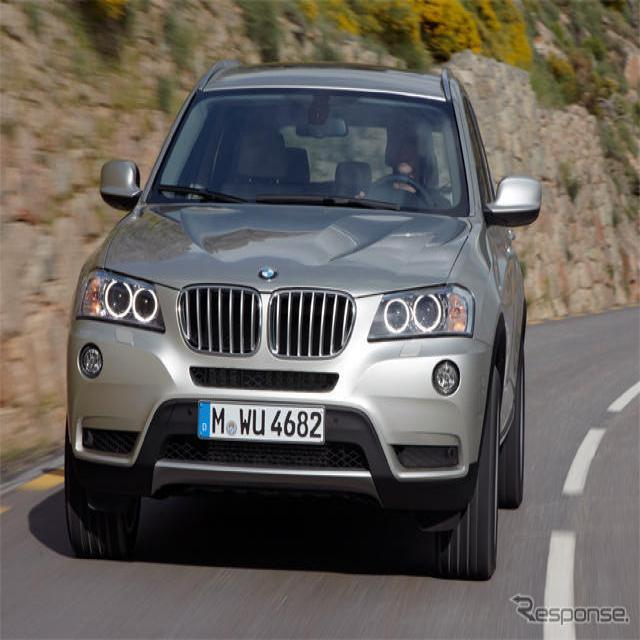Zeep: (29, 31, 544, 587)
